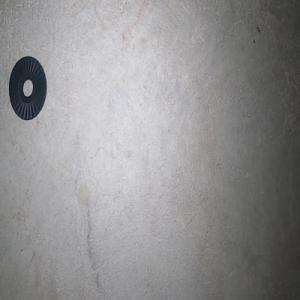Washer: (8, 55, 46, 120)
